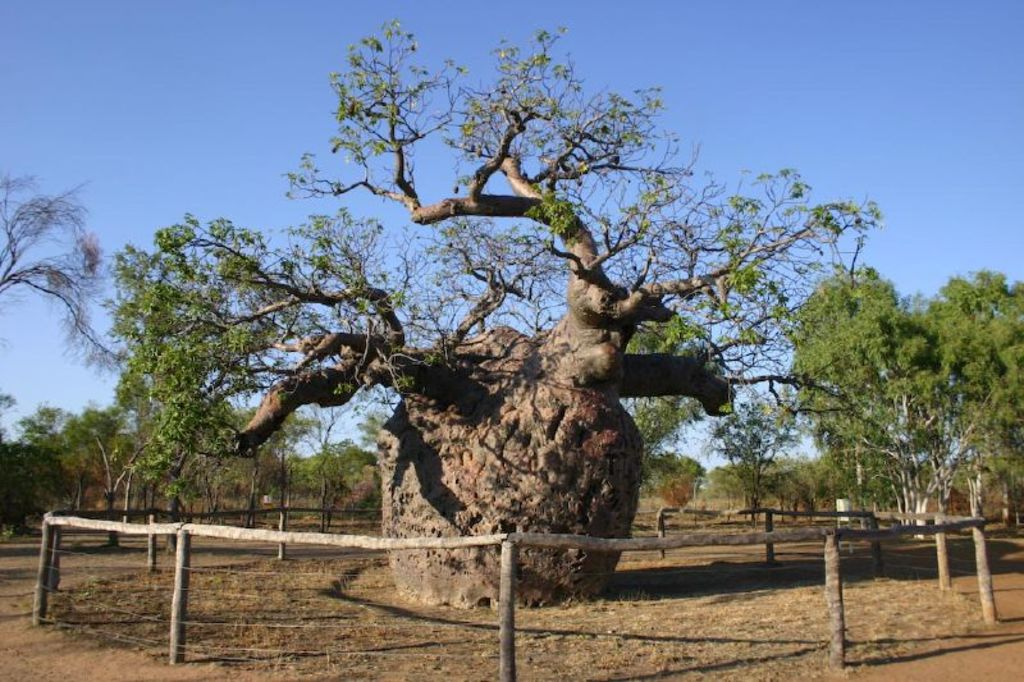Tree: (0, 18, 1023, 611)
